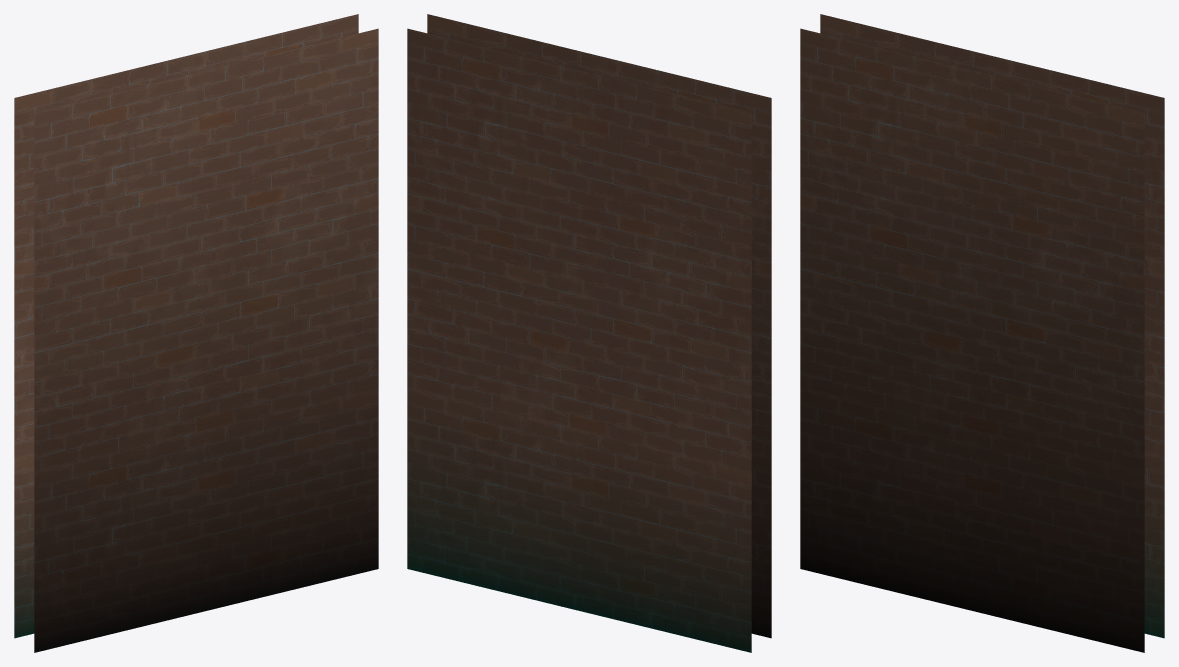
The model's file is Brick_Plain_3.gltf.
3 views of the same model, side by side, from view 1: azimuth 30°, elevation 25°; view 2: azimuth 150°, elevation 25°; view 3: azimuth 330°, elevation 25° (orthographic).
Visible parts, largest first — view 1: Brick_Plain_3; view 2: Brick_Plain_3; view 3: Brick_Plain_3.
Part boxes in pixels (x1,y1,x2,y2): Brick_Plain_3: (14,14,378,652); Brick_Plain_3: (407,14,771,652); Brick_Plain_3: (800,14,1164,652).
Bounding box in the file's own units: 2 × 3 × 0.2.
Materials: 2 (2 with a texture image).
